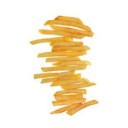frenchfries: (33, 13, 100, 115)
